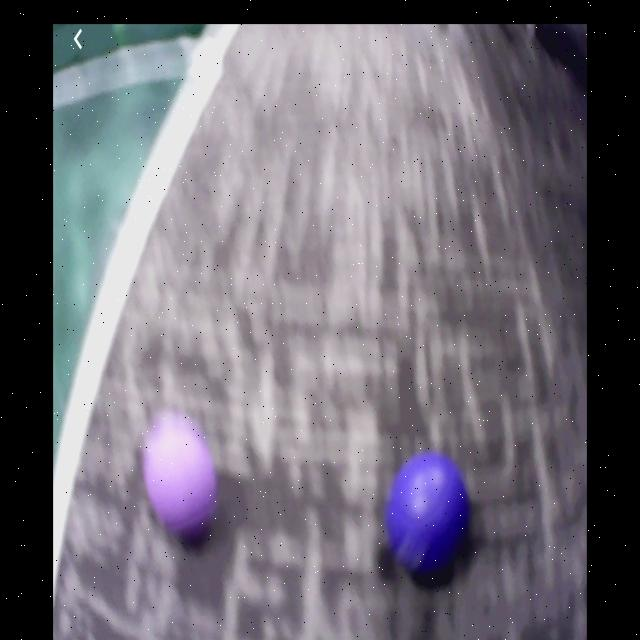ball: (387, 453, 472, 581), (149, 427, 219, 541)
